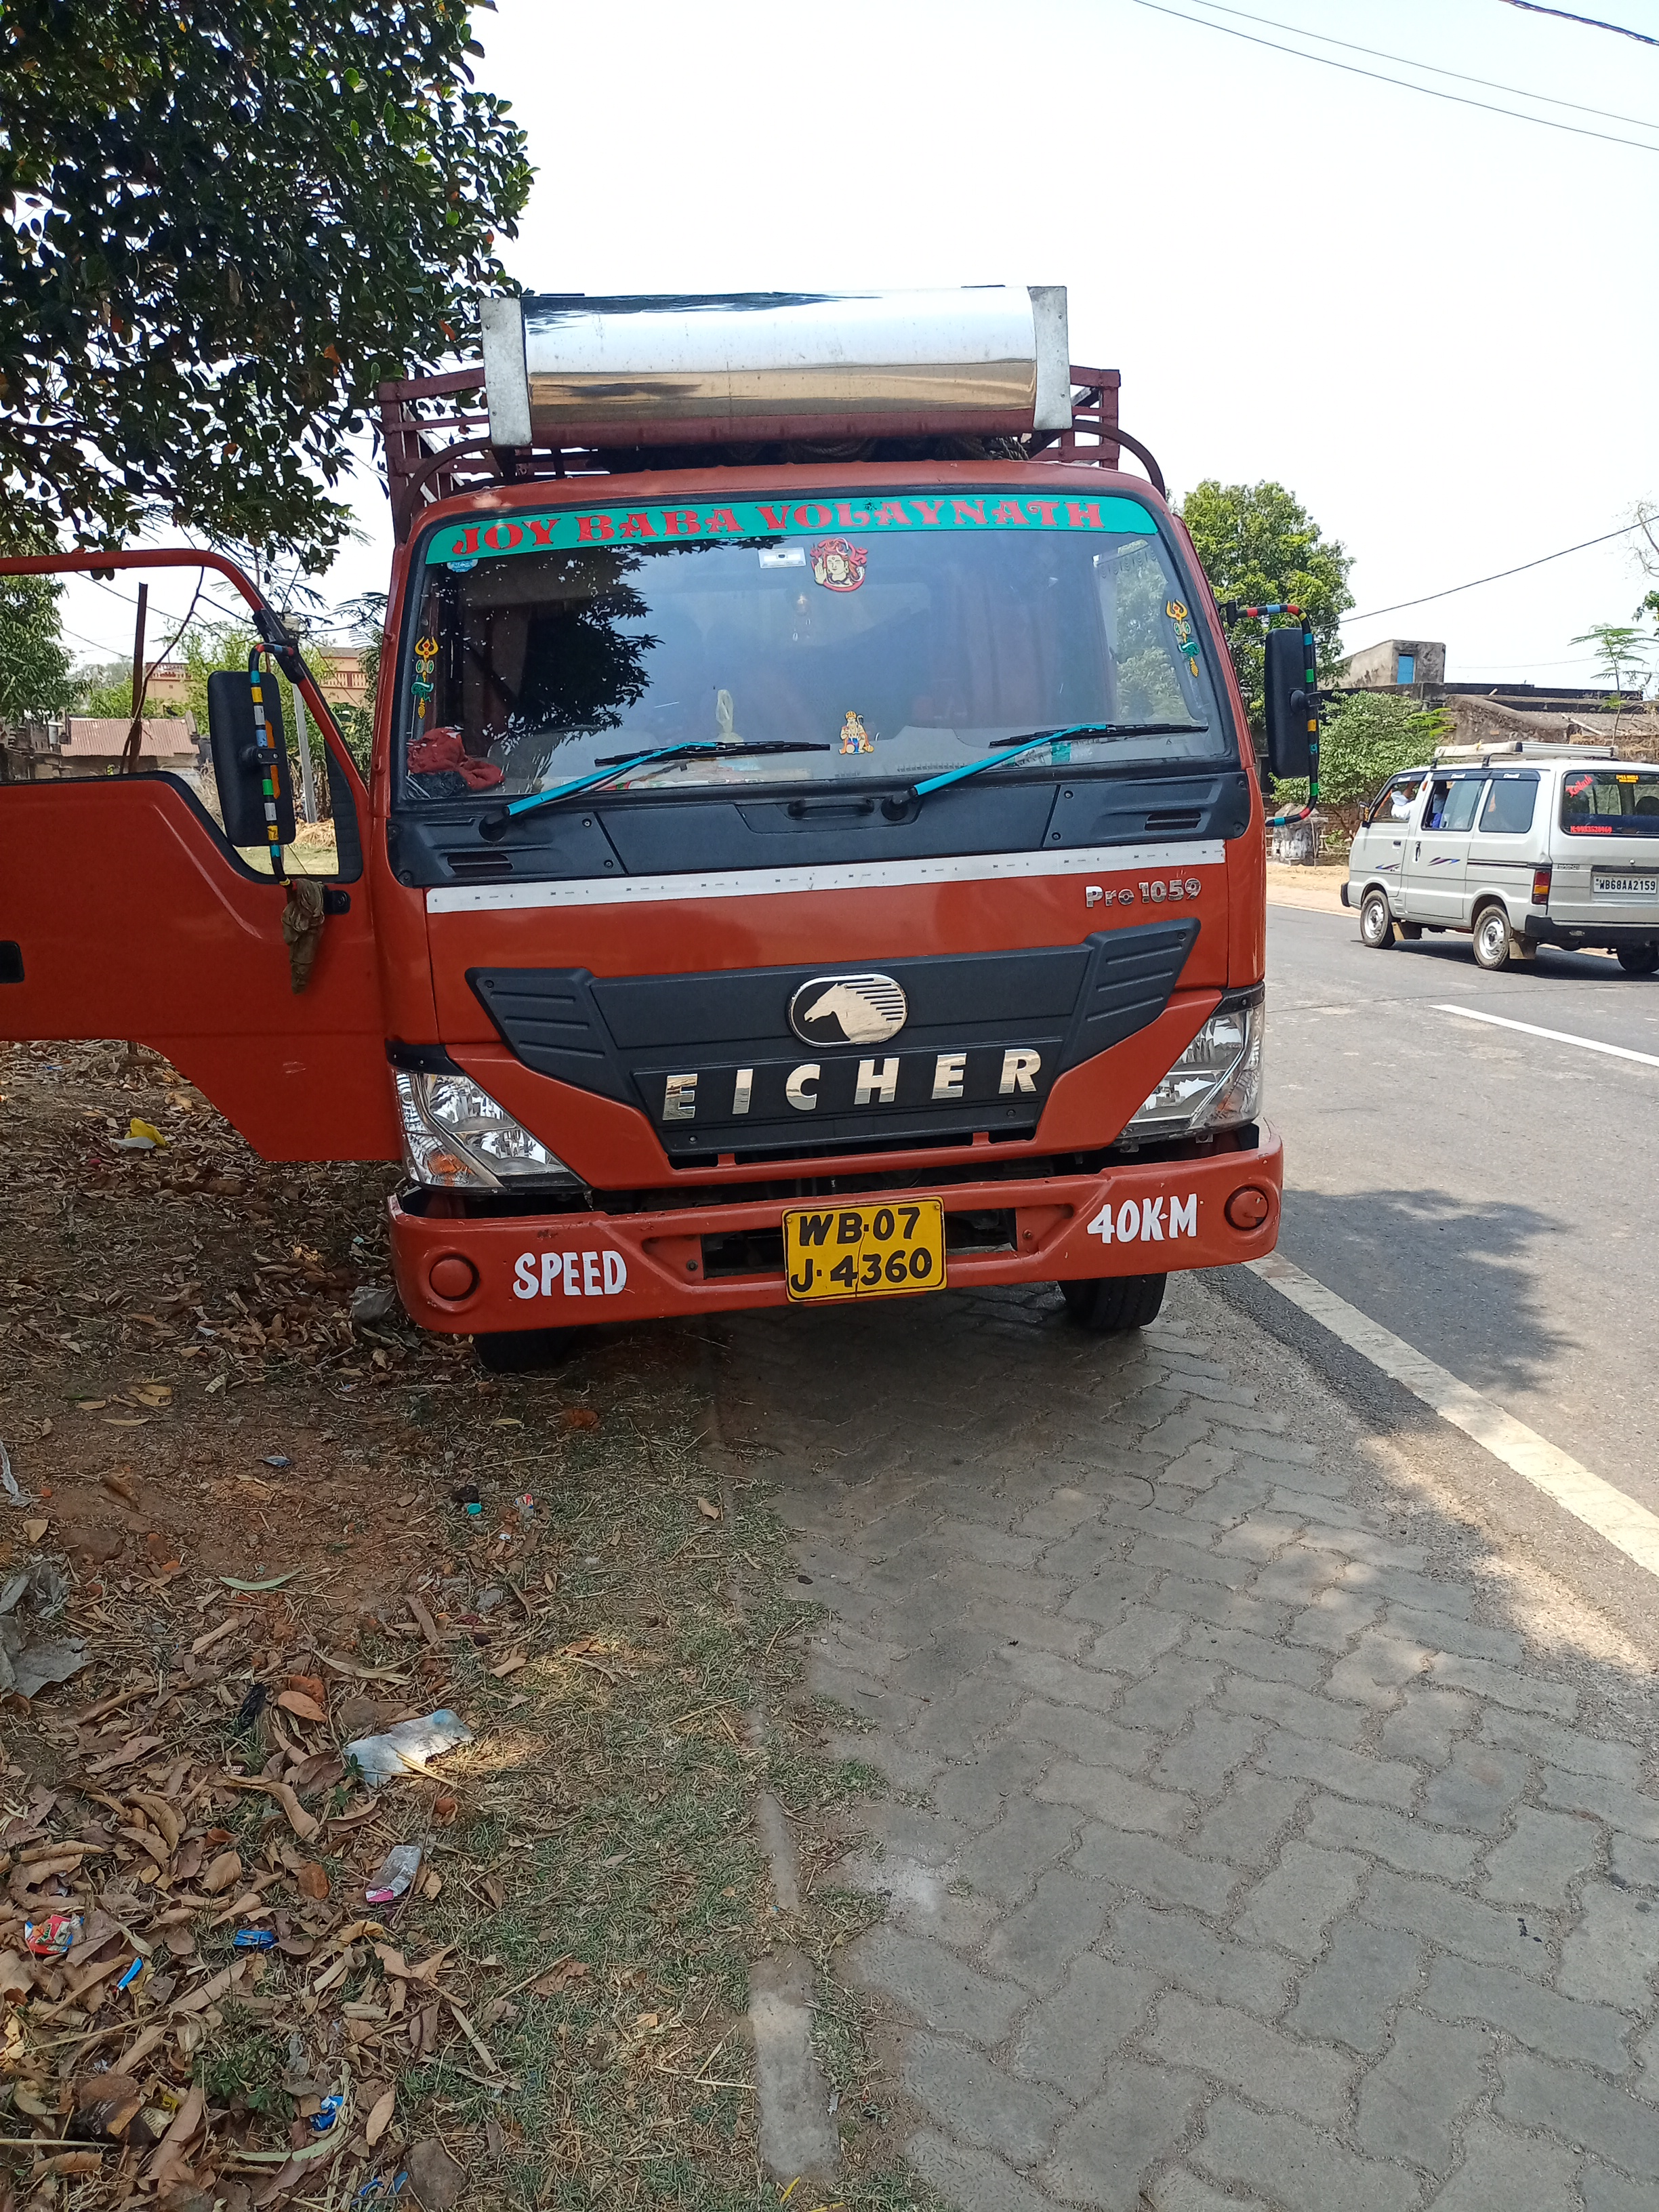truck: (0, 270, 1326, 1388)
